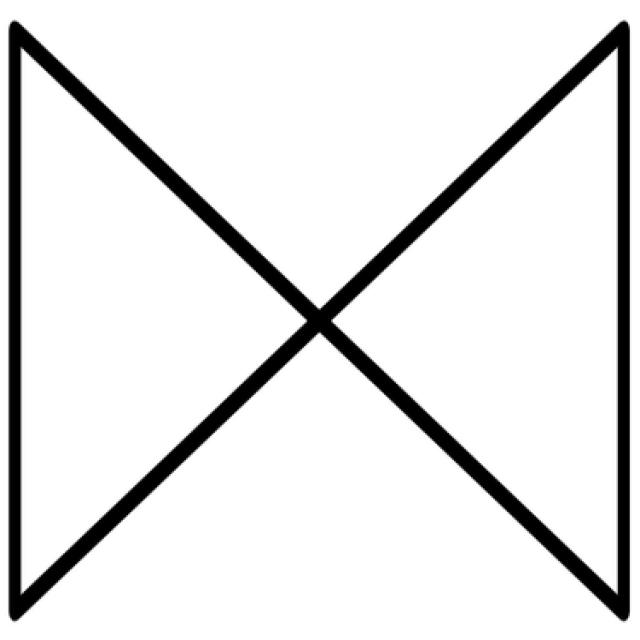Gate valve: (15, 28, 628, 613)
